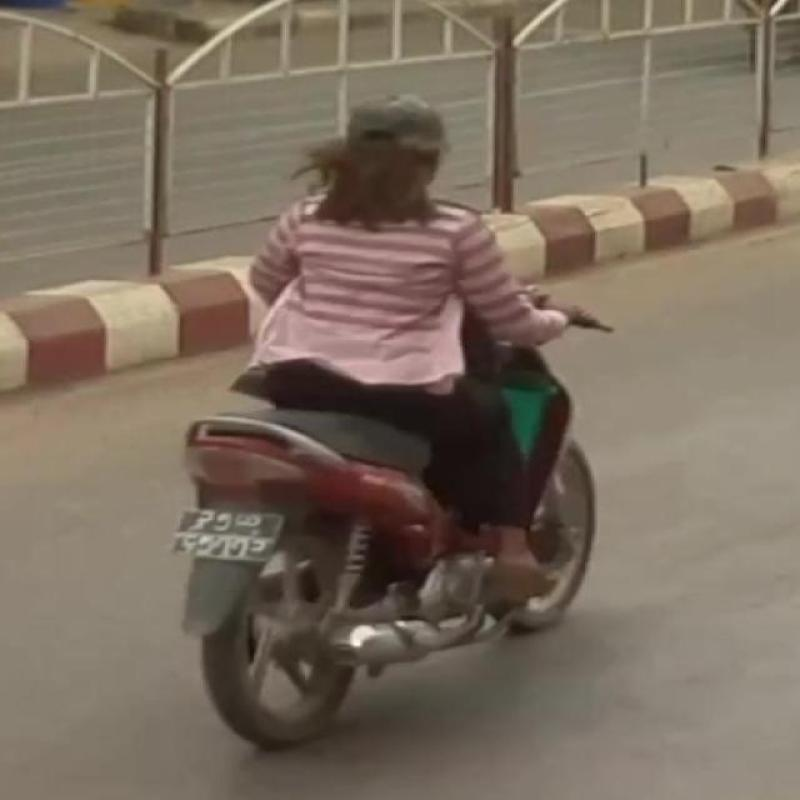nohelmet: (307, 63, 482, 251)
